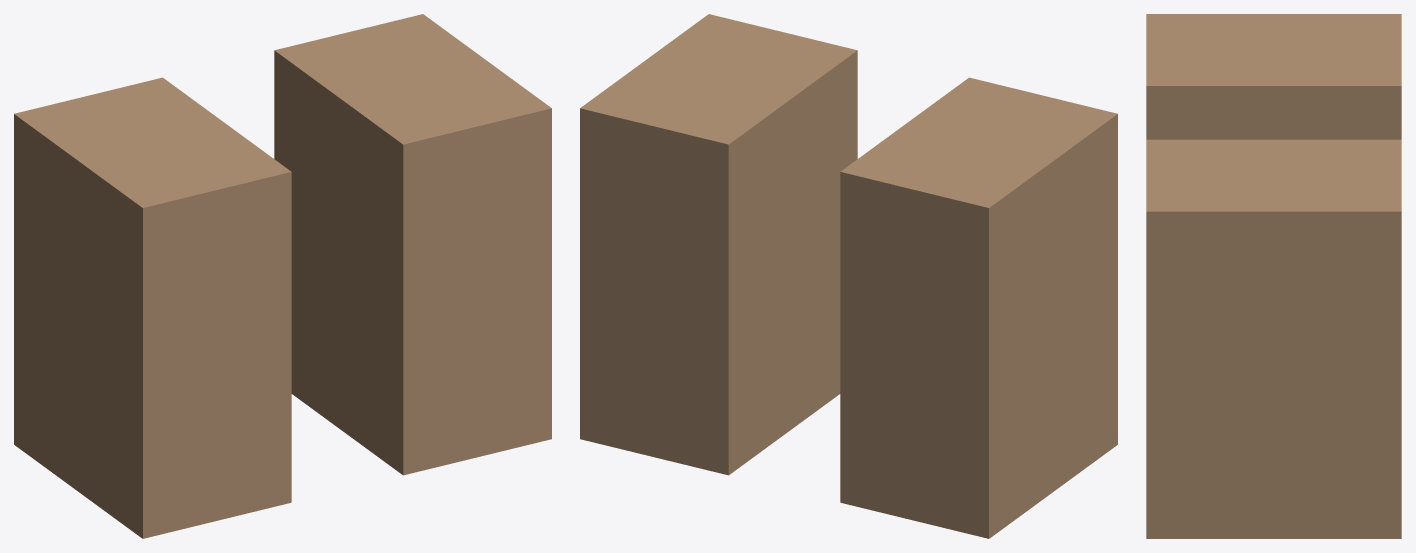
The model's file is leather_boots.glb.
3 renders of one model, left to right at view 1: azimuth 30°, elevation 25°; view 2: azimuth 150°, elevation 25°; view 3: azimuth 270°, elevation 25°, orthographic.
Visible parts, largest first — view 1: leather_boots; view 2: leather_boots; view 3: leather_boots.
Boxes of the visible parts, bbox=[...] form: leather_boots: bbox=[14, 14, 551, 538]; leather_boots: bbox=[580, 14, 1117, 538]; leather_boots: bbox=[1146, 14, 1401, 538].
Size of the model in its own units: 0.44 by 0.34 by 0.24.
